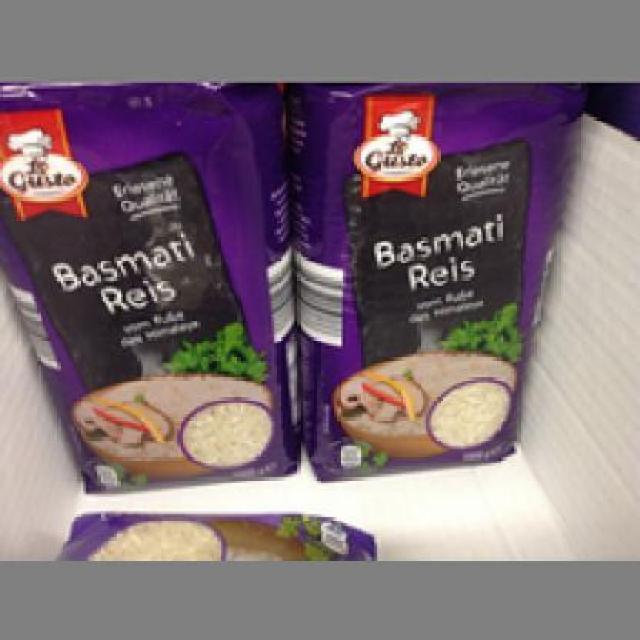Rice: (0, 82, 297, 488), (286, 83, 586, 480)
